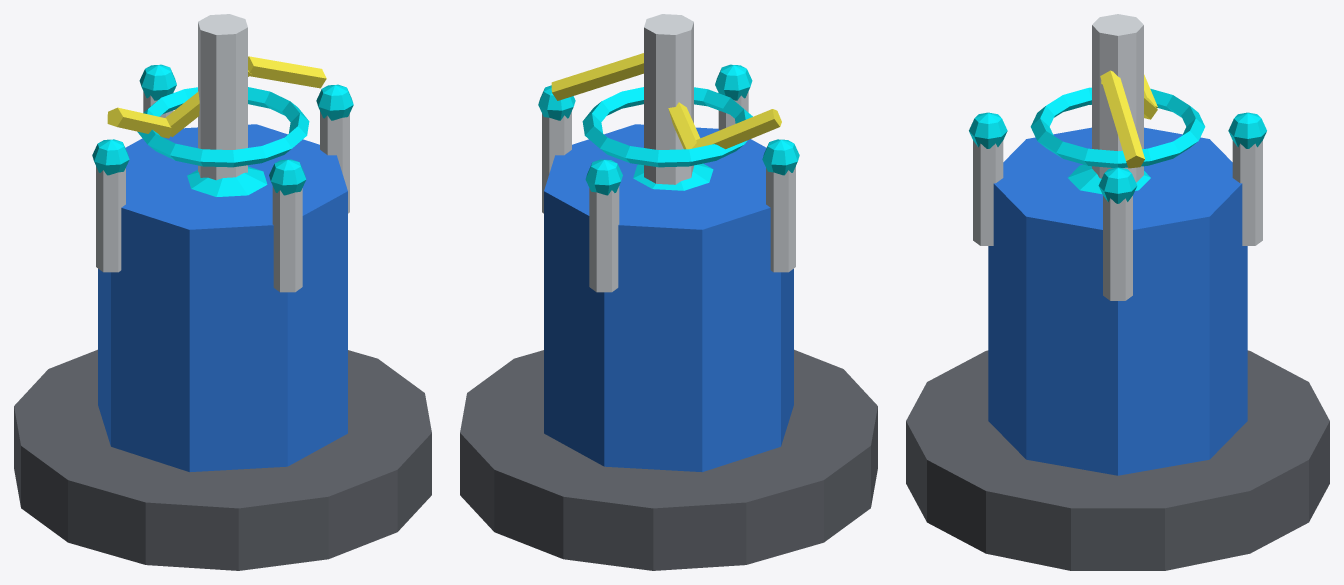
Rendered from TD_LightningTower_T1.fbx.
3 renders of one model, left to right at view 1: azimuth 30°, elevation 25°; view 2: azimuth 150°, elevation 25°; view 3: azimuth 270°, elevation 25°, orthographic.
Visible parts, largest first — view 1: TD_LightningTower_T1_Body, TD_LightningTower_T1_Base, TD_LightningTower_T1_Coil, TD_LightningTower_T1_CyanCoilRing, TD_LightningTower_T1_Rod_04, TD_LightningTower_T1_Rod_03, TD_LightningTower_T1_Bolt_01_Segment_03, TD_LightningTower_T1_Core, TD_LightningTower_T1_Rod_01, TD_LightningTower_T1_Bolt_01_Segment_01, TD_LightningTower_T1_Rod_04_Tip, TD_LightningTower_T1_Rod_03_Tip (+3 smaller); view 2: TD_LightningTower_T1_Body, TD_LightningTower_T1_Base, TD_LightningTower_T1_Coil, TD_LightningTower_T1_CyanCoilRing, TD_LightningTower_T1_Rod_02, TD_LightningTower_T1_Rod_03, TD_LightningTower_T1_Bolt_01_Segment_03, TD_LightningTower_T1_Bolt_01_Segment_01, TD_LightningTower_T1_Rod_01, TD_LightningTower_T1_Rod_02_Tip, TD_LightningTower_T1_Rod_03_Tip, TD_LightningTower_T1_Rod_04_Tip (+3 smaller); view 3: TD_LightningTower_T1_Body, TD_LightningTower_T1_Base, TD_LightningTower_T1_Coil, TD_LightningTower_T1_CyanCoilRing, TD_LightningTower_T1_Rod_01, TD_LightningTower_T1_Rod_02, TD_LightningTower_T1_Rod_04, TD_LightningTower_T1_Bolt_01_Segment_03, TD_LightningTower_T1_Rod_02_Tip, TD_LightningTower_T1_Rod_04_Tip, TD_LightningTower_T1_Rod_01_Tip, TD_LightningTower_T1_Core.
Boxes of the visible parts, x1=… form: TD_LightningTower_T1_Body: x1=98, y1=124, x2=347, y2=472; TD_LightningTower_T1_Base: x1=14, y1=349, x2=431, y2=570; TD_LightningTower_T1_Coil: x1=198, y1=14, x2=247, y2=180; TD_LightningTower_T1_CyanCoilRing: x1=137, y1=87, x2=309, y2=167; TD_LightningTower_T1_Rod_04: x1=272, y1=186, x2=302, y2=292; TD_LightningTower_T1_Rod_03: x1=96, y1=166, x2=125, y2=272; TD_LightningTower_T1_Bolt_01_Segment_03: x1=248, y1=56, x2=326, y2=88; TD_LightningTower_T1_Core: x1=187, y1=166, x2=267, y2=196; TD_LightningTower_T1_Rod_01: x1=320, y1=111, x2=349, y2=213; TD_LightningTower_T1_Bolt_01_Segment_01: x1=107, y1=107, x2=171, y2=138; TD_LightningTower_T1_Rod_04_Tip: x1=269, y1=159, x2=306, y2=195; TD_LightningTower_T1_Rod_03_Tip: x1=92, y1=139, x2=129, y2=175; TD_LightningTower_T1_Body: x1=544, y1=124, x2=793, y2=472; TD_LightningTower_T1_Base: x1=460, y1=349, x2=877, y2=570; TD_LightningTower_T1_Coil: x1=644, y1=14, x2=693, y2=184; TD_LightningTower_T1_CyanCoilRing: x1=582, y1=87, x2=752, y2=167; TD_LightningTower_T1_Rod_02: x1=589, y1=186, x2=619, y2=292; TD_LightningTower_T1_Rod_03: x1=766, y1=166, x2=795, y2=272; TD_LightningTower_T1_Bolt_01_Segment_03: x1=551, y1=53, x2=643, y2=100; TD_LightningTower_T1_Bolt_01_Segment_01: x1=692, y1=109, x2=781, y2=149; TD_LightningTower_T1_Rod_01: x1=542, y1=111, x2=571, y2=213; TD_LightningTower_T1_Rod_02_Tip: x1=585, y1=159, x2=622, y2=195; TD_LightningTower_T1_Rod_03_Tip: x1=762, y1=139, x2=799, y2=175; TD_LightningTower_T1_Rod_04_Tip: x1=715, y1=64, x2=752, y2=100; TD_LightningTower_T1_Body: x1=988, y1=127, x2=1247, y2=475; TD_LightningTower_T1_Base: x1=906, y1=350, x2=1329, y2=570; TD_LightningTower_T1_Coil: x1=1092, y1=14, x2=1143, y2=182; TD_LightningTower_T1_CyanCoilRing: x1=1030, y1=87, x2=1205, y2=167; TD_LightningTower_T1_Rod_01: x1=1103, y1=196, x2=1132, y2=300; TD_LightningTower_T1_Rod_02: x1=1232, y1=140, x2=1262, y2=245; TD_LightningTower_T1_Rod_04: x1=973, y1=140, x2=1003, y2=245; TD_LightningTower_T1_Bolt_01_Segment_03: x1=1100, y1=70, x2=1144, y2=168; TD_LightningTower_T1_Rod_02_Tip: x1=1228, y1=112, x2=1266, y2=148; TD_LightningTower_T1_Rod_04_Tip: x1=969, y1=112, x2=1007, y2=148; TD_LightningTower_T1_Rod_01_Tip: x1=1098, y1=167, x2=1137, y2=203; TD_LightningTower_T1_Core: x1=1068, y1=164, x2=1150, y2=193.
Size of the model in its own units: 0.9554 by 1.17 by 0.98.
